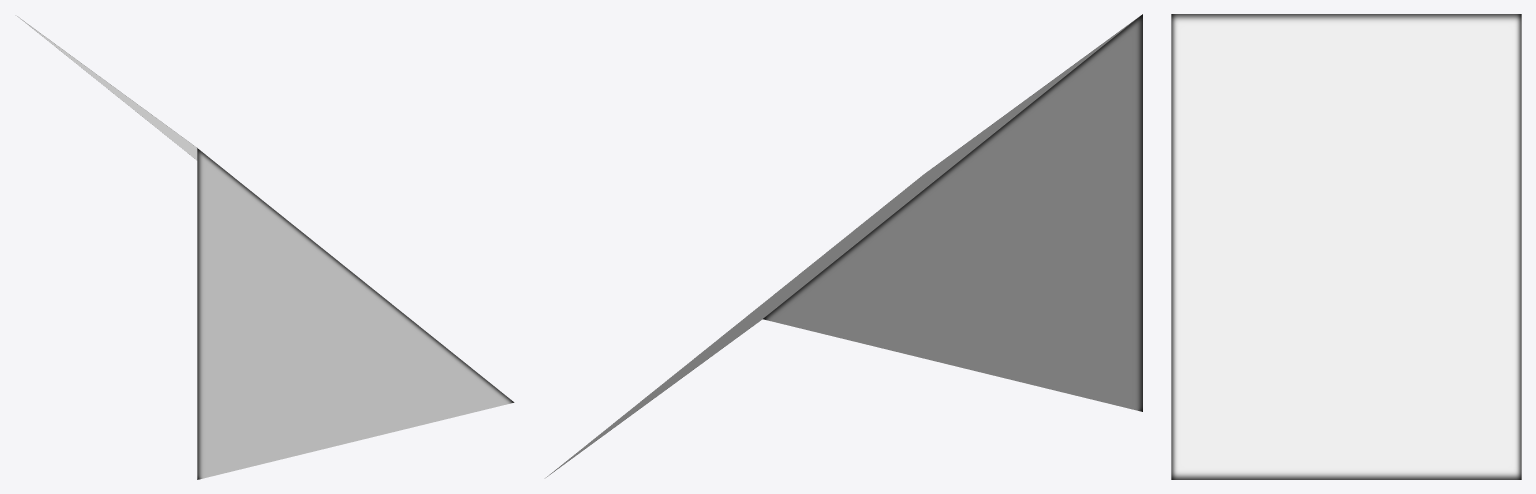
File: slope_outside_1-side.fbx
3 renders of one model, left to right at view 1: azimuth 30°, elevation 25°; view 2: azimuth 150°, elevation 25°; view 3: azimuth 270°, elevation 25°, orthographic. The views are drawn at different scales.
Parts seen in each view (by area): view 1: slope_outside_1-side; view 2: slope_outside_1-side; view 3: slope_outside_1-side.
Boxes of the visible parts, left/top/right/bottom form: slope_outside_1-side: left=17, top=16, right=514, bottom=479; slope_outside_1-side: left=546, top=14, right=1142, bottom=477; slope_outside_1-side: left=1171, top=14, right=1521, bottom=479.
Size of the model in its own units: 100 by 100 by 100.
